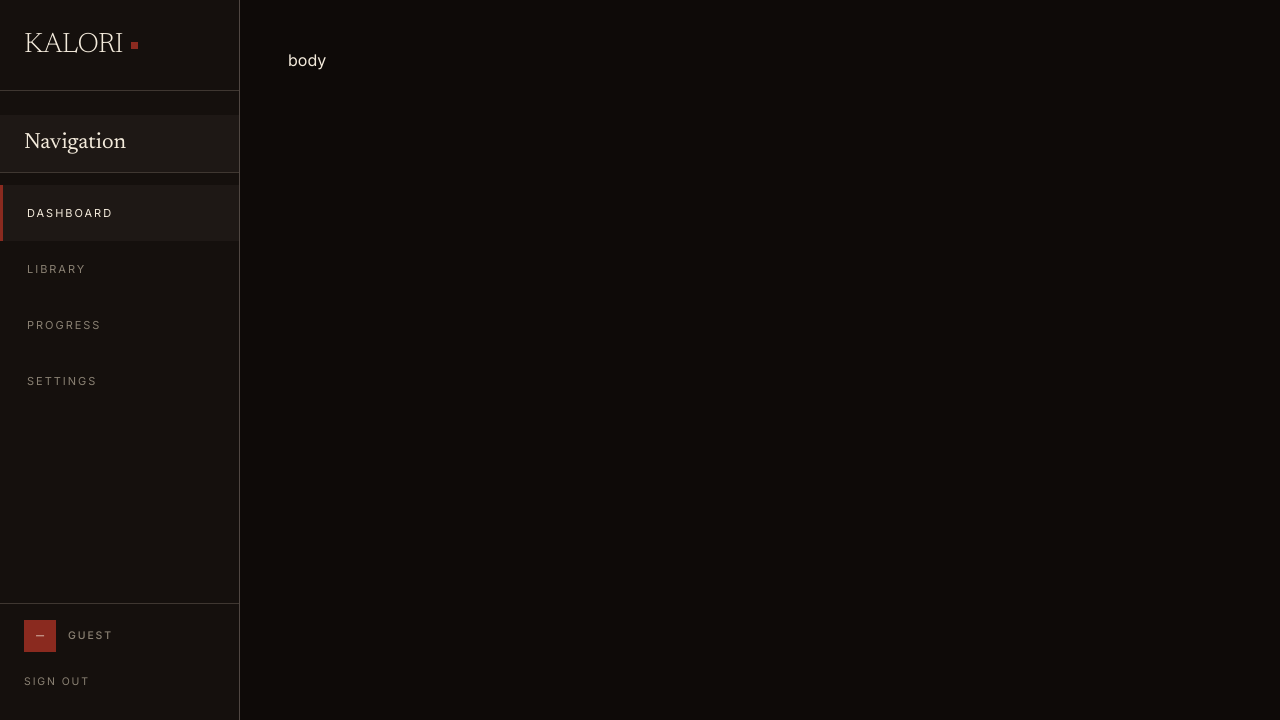
<NavShell /> › Bug #4 — app-shell pull-to-refresh › refreshes the active route after a one-finger downward pull at document top
The width and height of the screenshot is (1280, 720).
Press the mouse on the text with test id "page-body" at (307, 60), box [288,50,326,70]
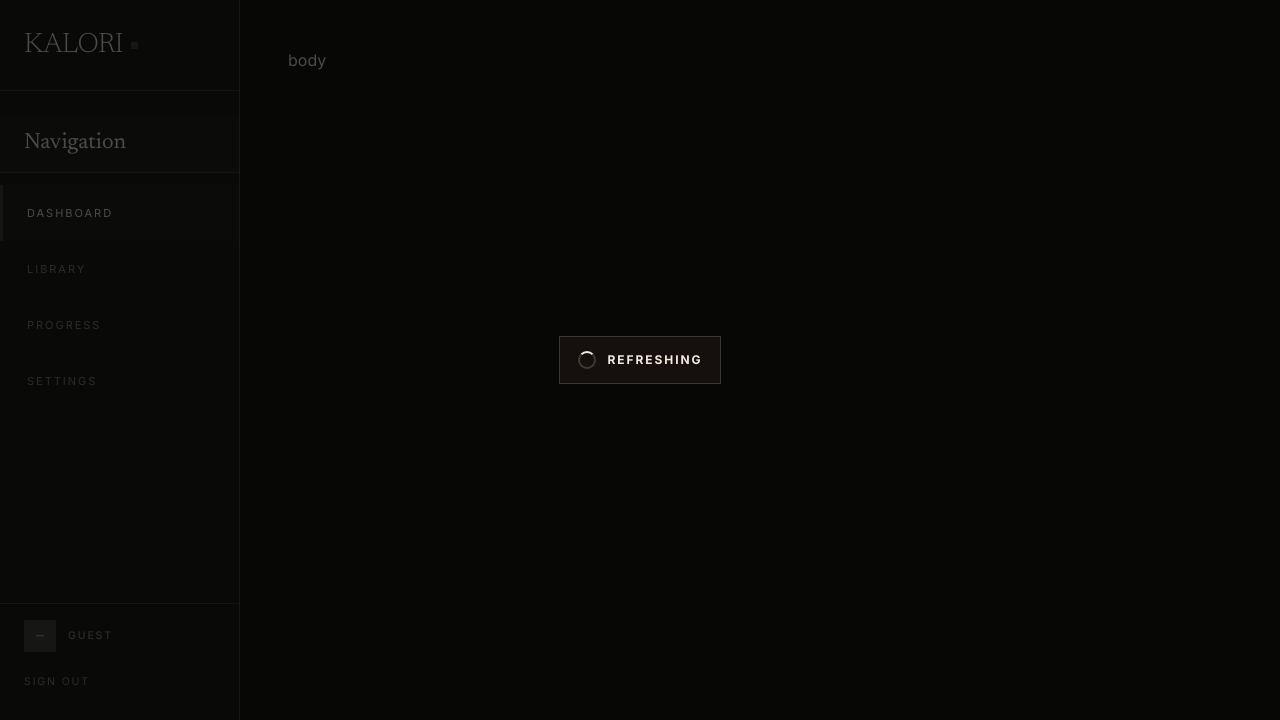
Expected: the message with test id "pull-to-refresh-overlay" reads "Refreshing", [608,352,702,367]
